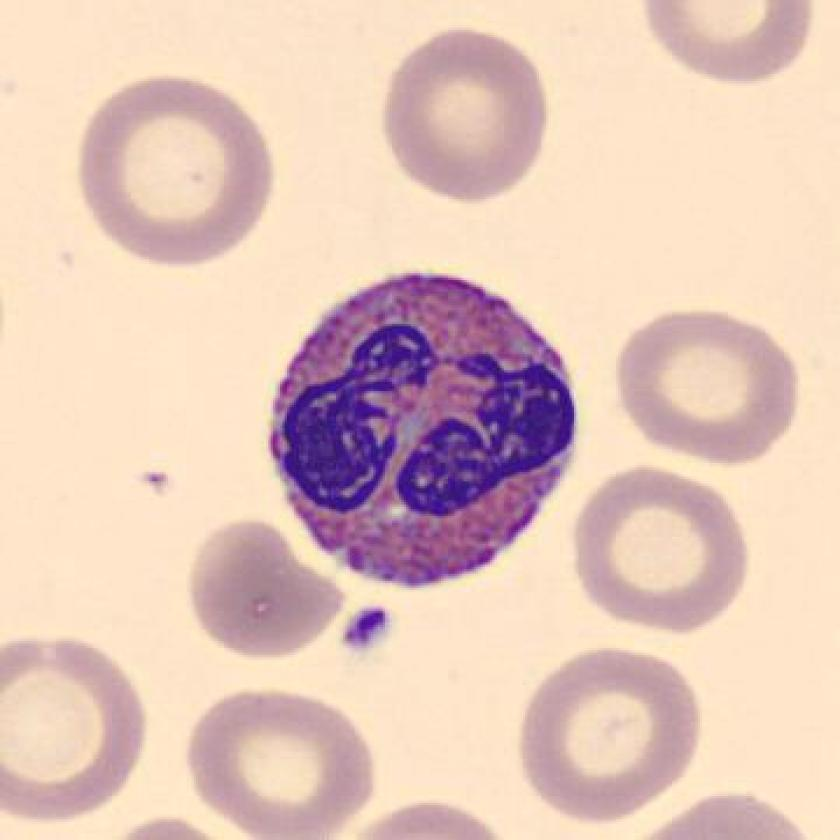eosinophil: (251, 263, 587, 594)
